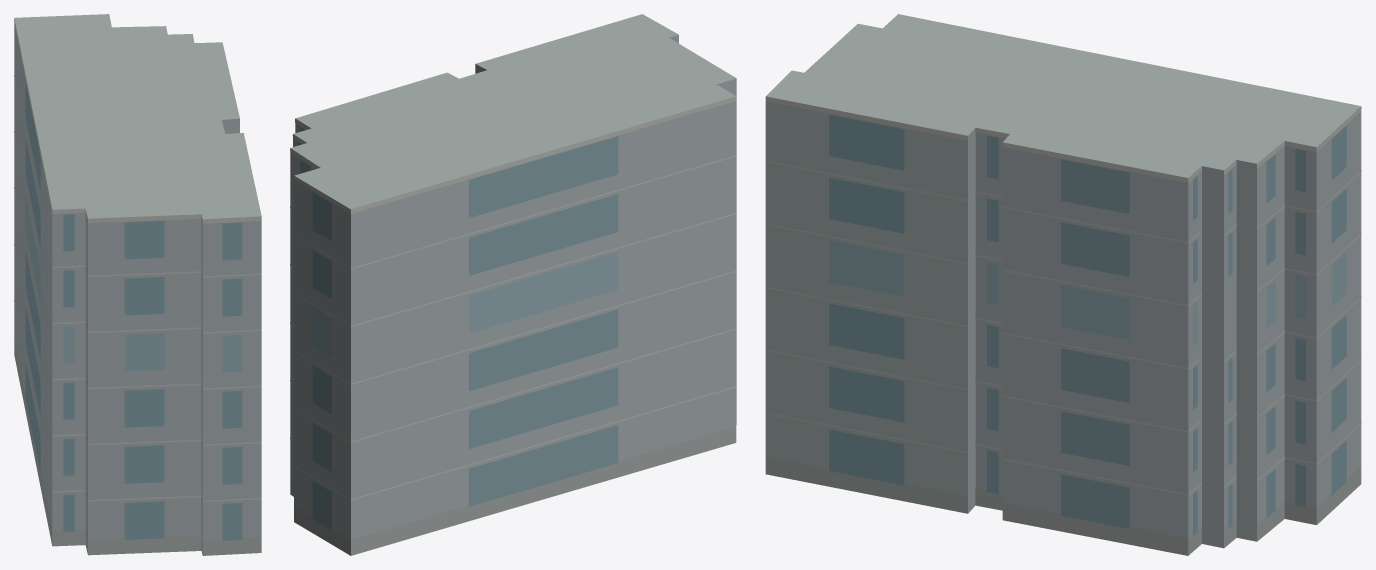
Rendered from survey-upis-32898308.glb.
3 renders of one model, left to right at view 1: azimuth 30°, elevation 25°; view 2: azimuth 150°, elevation 25°; view 3: azimuth 270°, elevation 25°, orthographic. The views are drawn at different scales.
Visible parts, largest first — view 1: survey-upis-32898308.tmp; view 2: survey-upis-32898308.tmp; view 3: survey-upis-32898308.tmp.
Boxes of the visible parts, x1,y1,x2,y2 form: survey-upis-32898308.tmp: (14,14,261,555); survey-upis-32898308.tmp: (290,14,736,555); survey-upis-32898308.tmp: (765,14,1361,555).
Bounding box in the file's own units: 17.43 × 18.7 × 26.74.
